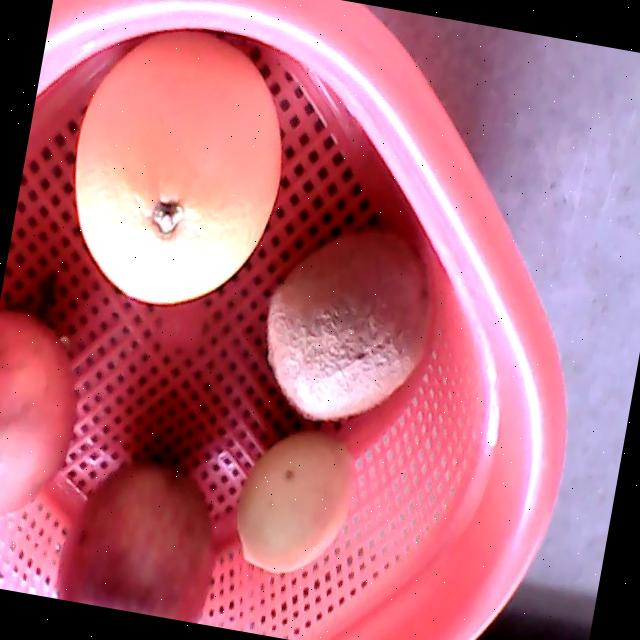apple: (56, 459, 215, 623)
kiwi: (265, 229, 428, 420)
lemon: (236, 428, 355, 572)
orange: (73, 28, 280, 304)
pomegranate: (0, 306, 74, 518)
